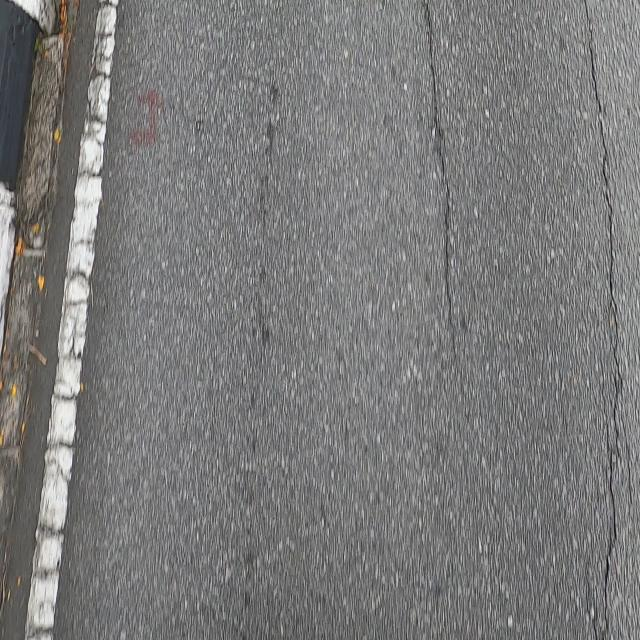Retak-Memanjang: (582, 1, 626, 631), (423, 1, 455, 311)
